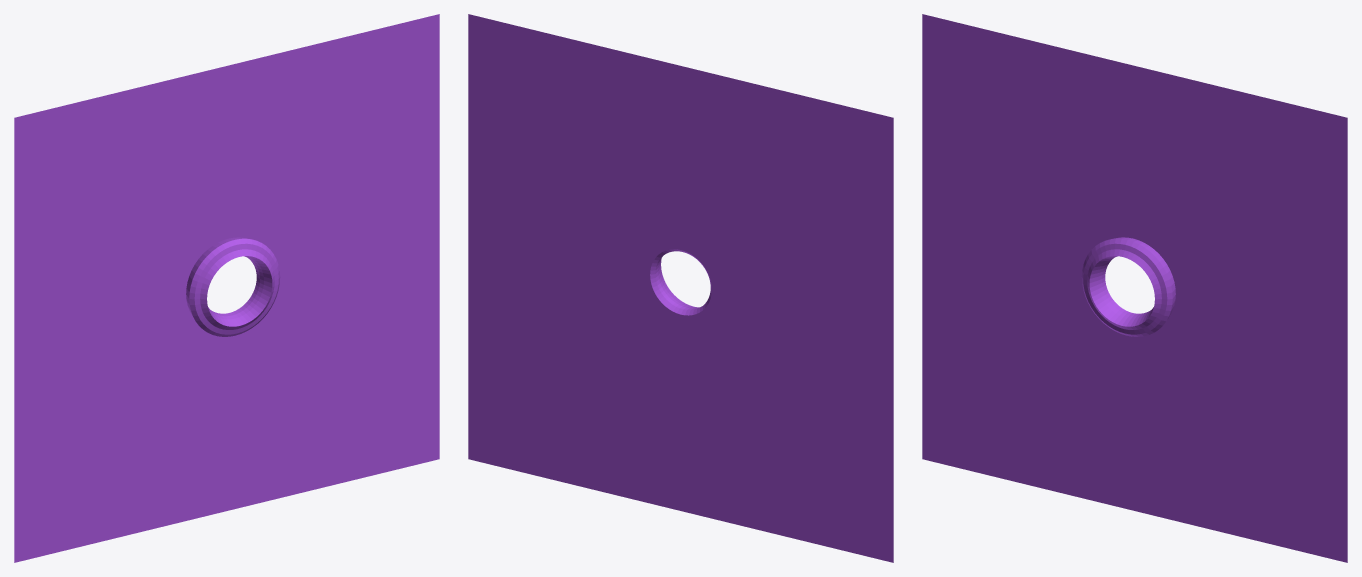
The model's file is transition.fbx.
3 renders of one model, left to right at view 1: azimuth 30°, elevation 25°; view 2: azimuth 150°, elevation 25°; view 3: azimuth 330°, elevation 25°, orthographic.
Parts seen in each view (by area): view 1: Transition; view 2: Transition; view 3: Transition.
Boxes of the visible parts, <box> form: Transition: <box>14,14,439,562</box>; Transition: <box>468,14,893,562</box>; Transition: <box>922,14,1347,562</box>.
Size of the model in its own units: 18889 by 18889 by 1007.
